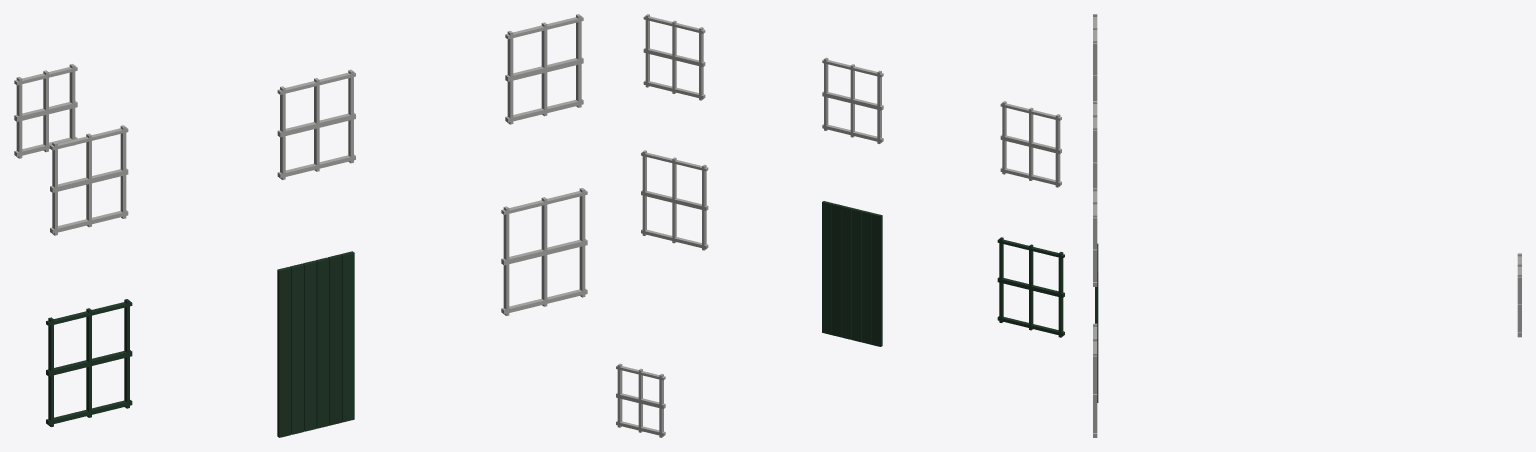
The model's file is SM_Bld_001_Wood.glb.
3 renders of one model, left to right at view 1: azimuth 30°, elevation 25°; view 2: azimuth 150°, elevation 25°; view 3: azimuth 270°, elevation 25°, orthographic. The views are drawn at different scales.
Visible parts, largest first — view 1: SM_Bld_001_Wood; view 2: SM_Bld_001_Wood; view 3: SM_Bld_001_Wood.
Boxes of the visible parts, x1,y1,x2,y2 form: SM_Bld_001_Wood: (14,14,587,437); SM_Bld_001_Wood: (616,14,1064,437); SM_Bld_001_Wood: (1093,14,1521,437).
Bounding box in the file's own units: 7.1 × 4.4 × 6.24.
